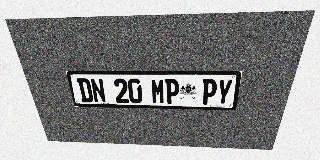0: (127, 79, 142, 103)
2: (113, 78, 129, 103)
D: (76, 78, 94, 102)
M: (151, 79, 165, 104)
N: (90, 78, 107, 103)
P: (201, 79, 218, 105), (165, 79, 179, 104)
Y: (215, 79, 233, 105)
